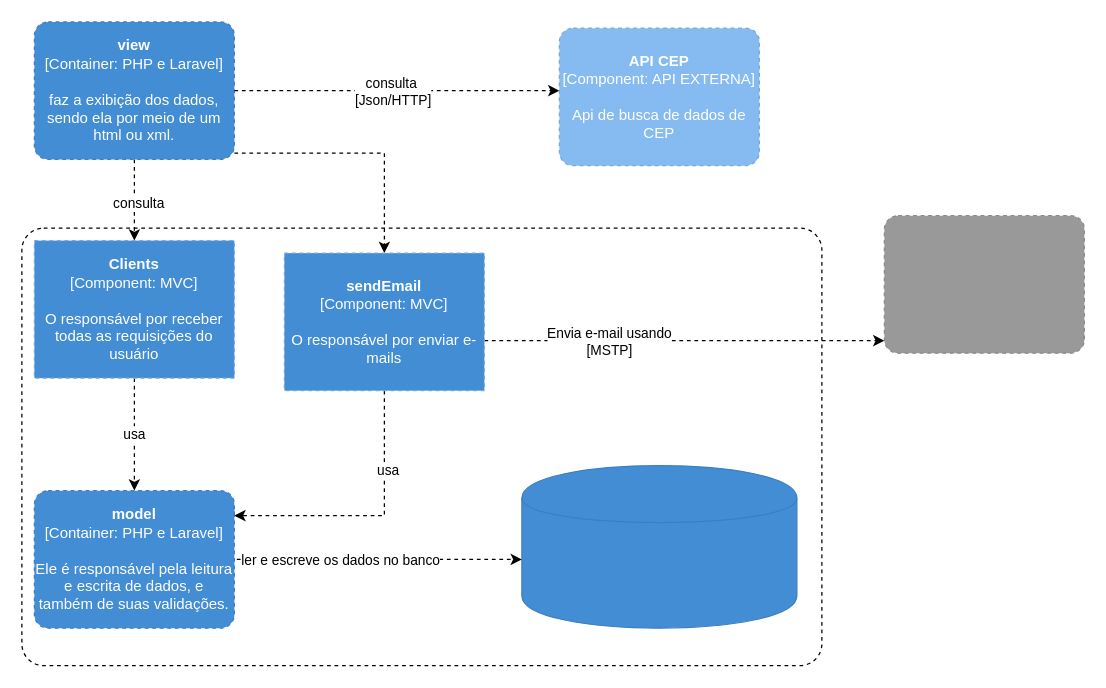
The diagram is 1106 pixels wide and 688 high, and some of its shapes have lost their labels. Each missing label, with the box of its shape:
Database [Container: mysql] Armazena dados dos clientes: (521, 464, 797, 628)
name [applicationAndVersion]: (21, 227, 822, 666)
Sistema de e-mail [Software System] O sistema de e-mail da Mailtrap: (883, 214, 1084, 353)
